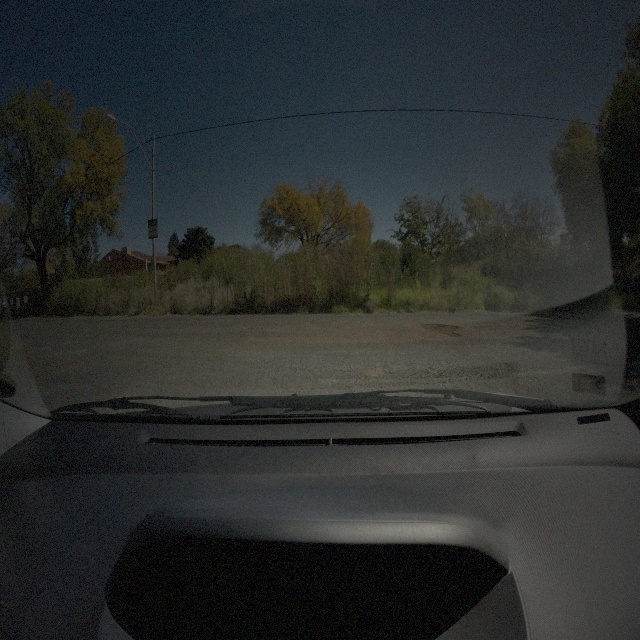pothole: (421, 320, 462, 340)
